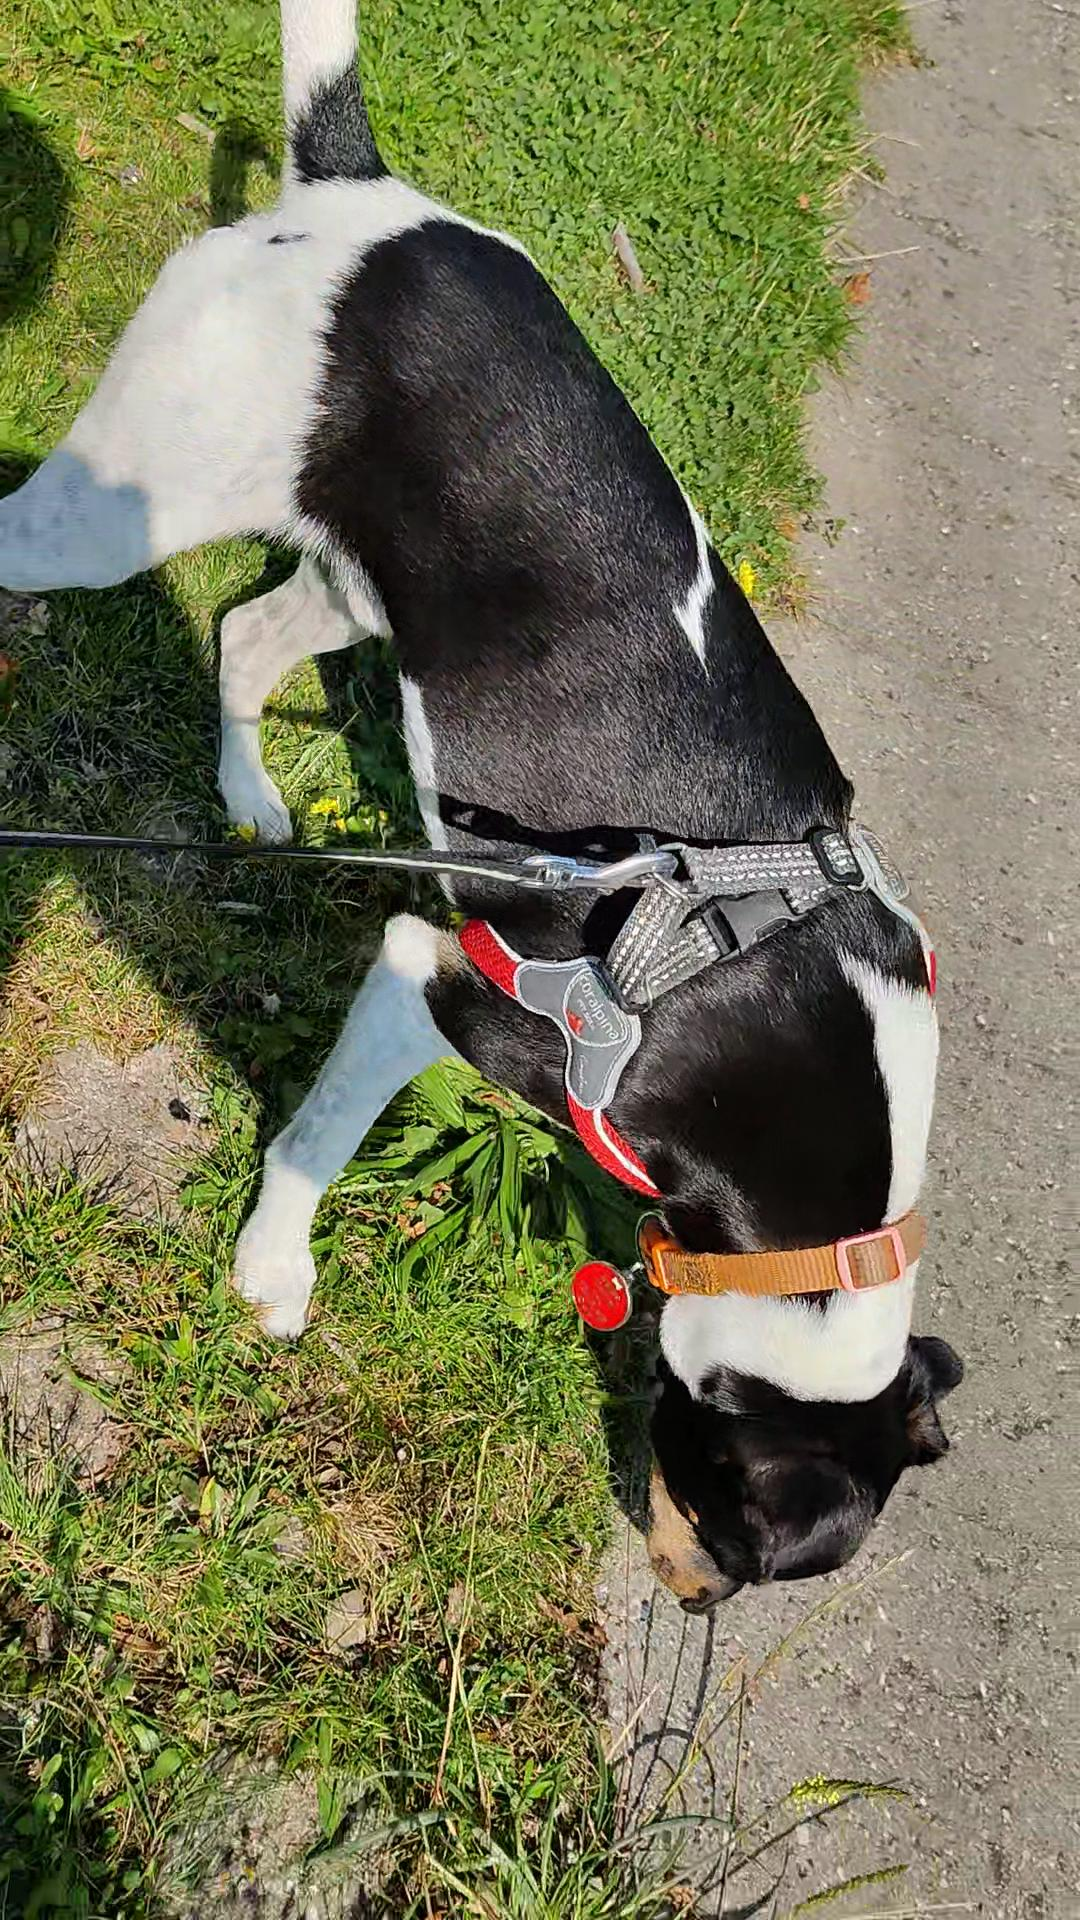Dog: (0, 121, 972, 1626)
